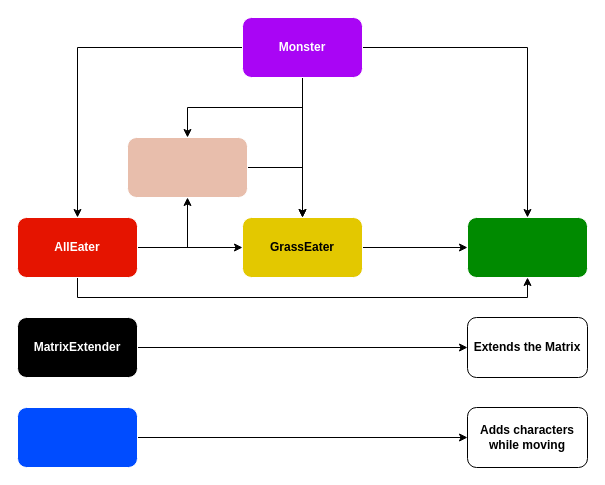
Some shapes in this 605 by 485 pixel diagram are drawn without their labels. The box of each missing label's shape, as (x1, y1, x2, y2) in pixels:
ChAdder: (16, 406, 138, 468)
Grass: (466, 216, 588, 278)
Human: (126, 136, 248, 198)
